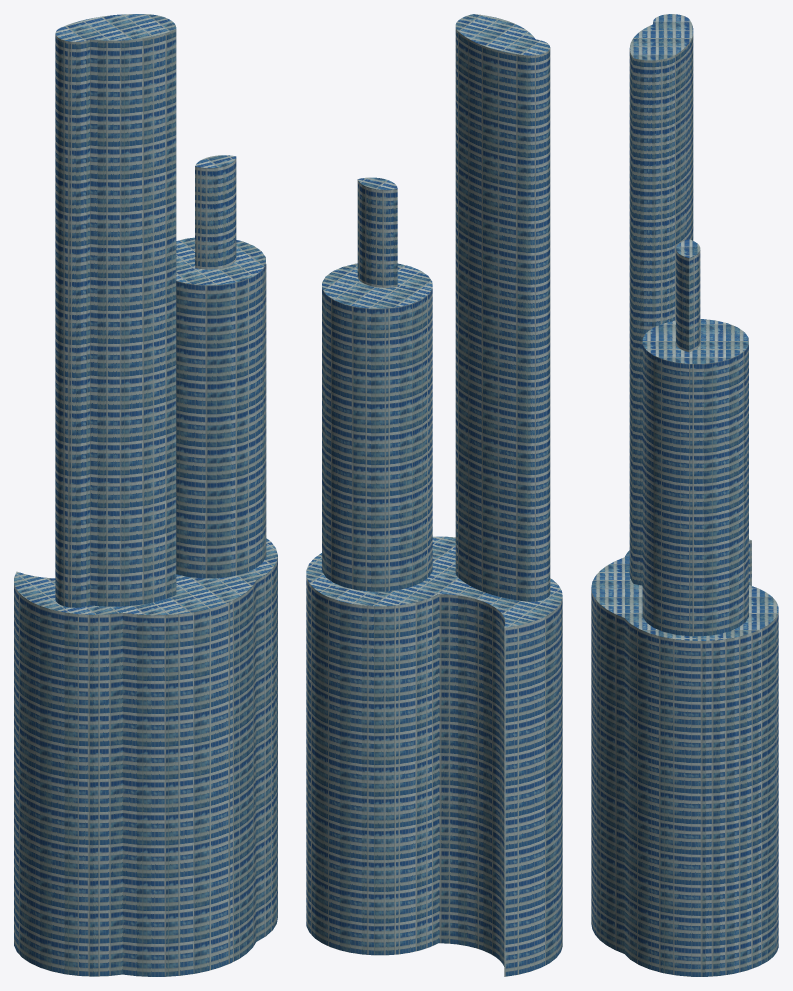
The model's file is Clark-Hotel.fbx.
The picture shows the model from 3 angles, left to right: view 1: azimuth 30°, elevation 25°; view 2: azimuth 150°, elevation 25°; view 3: azimuth 270°, elevation 25°; orthographic projection. The views are drawn at different scales.
Visible parts, largest first — view 1: Group2, Group1; view 2: Group2, Group1; view 3: Group2, Group1.
Part boxes in pixels (x1,y1,x2,y2): Group2: (14, 14, 277, 976); Group1: (195, 155, 236, 269); Group2: (306, 14, 562, 976); Group1: (357, 177, 397, 287); Group2: (591, 14, 778, 976); Group1: (676, 239, 700, 352).
Bounding box in the file's own units: 732 × 2677 × 528.
